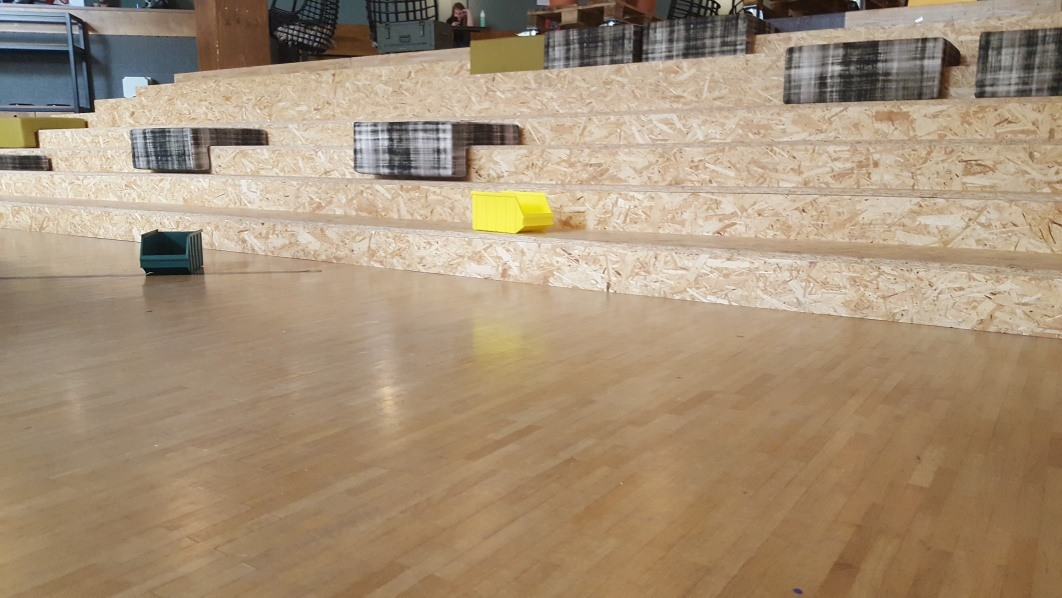tray: (463, 192, 555, 234), (136, 228, 207, 272)
